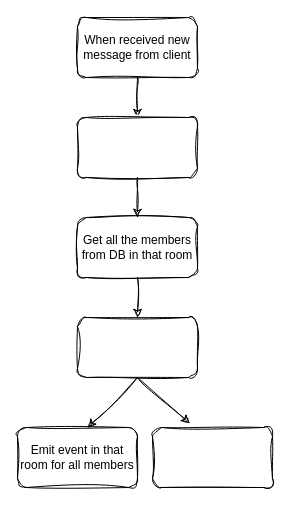
This 290x505 diagram has some shape labels left out. The shapes that lost their labels are listed below. From the top down, each one's box as (x1, y1, x2, y2) in pixels, then its label:
(76, 116, 198, 178): Get all the current room members
(76, 316, 198, 378): Check if all members in the room
